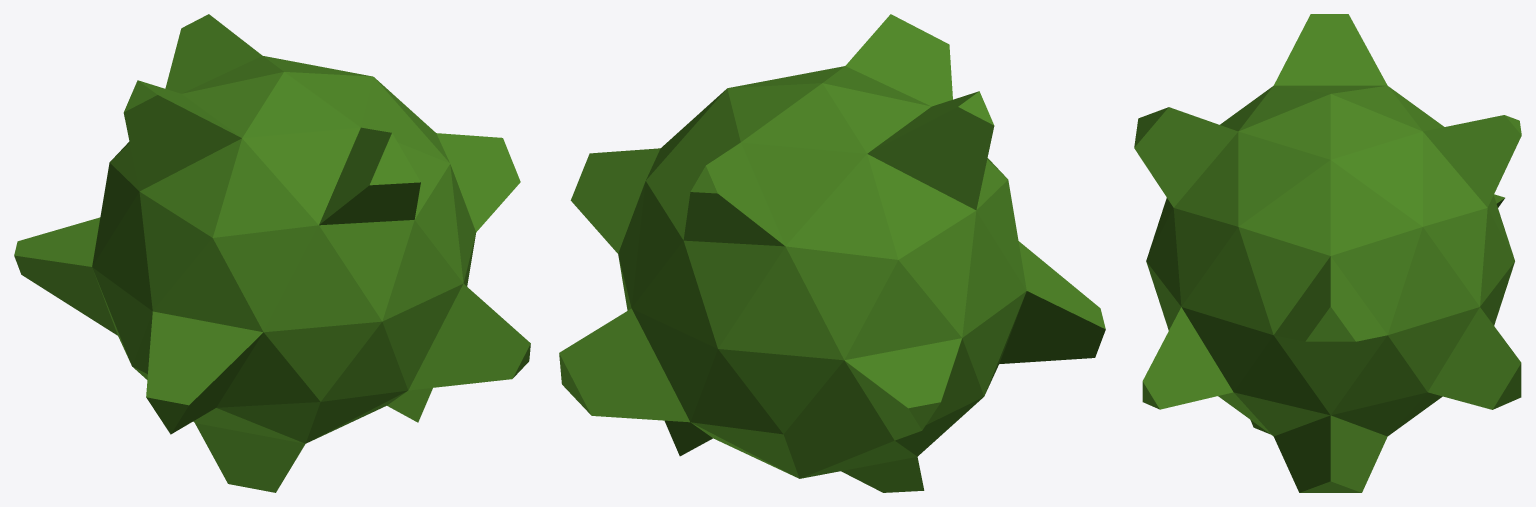
The model's file is germ1.fbx.
3 renders of one model, left to right at view 1: azimuth 30°, elevation 25°; view 2: azimuth 150°, elevation 25°; view 3: azimuth 270°, elevation 25°, orthographic. The views are drawn at different scales.
Visible parts, largest first — view 1: Icosphere; view 2: Icosphere; view 3: Icosphere.
Part boxes in pixels (x1=…): Icosphere: x1=14, y1=14, x2=530, y2=492; Icosphere: x1=559, y1=14, x2=1105, y2=492; Icosphere: x1=1134, y1=14, x2=1521, y2=492.
Size of the model in its own units: 250 by 230 by 210.
